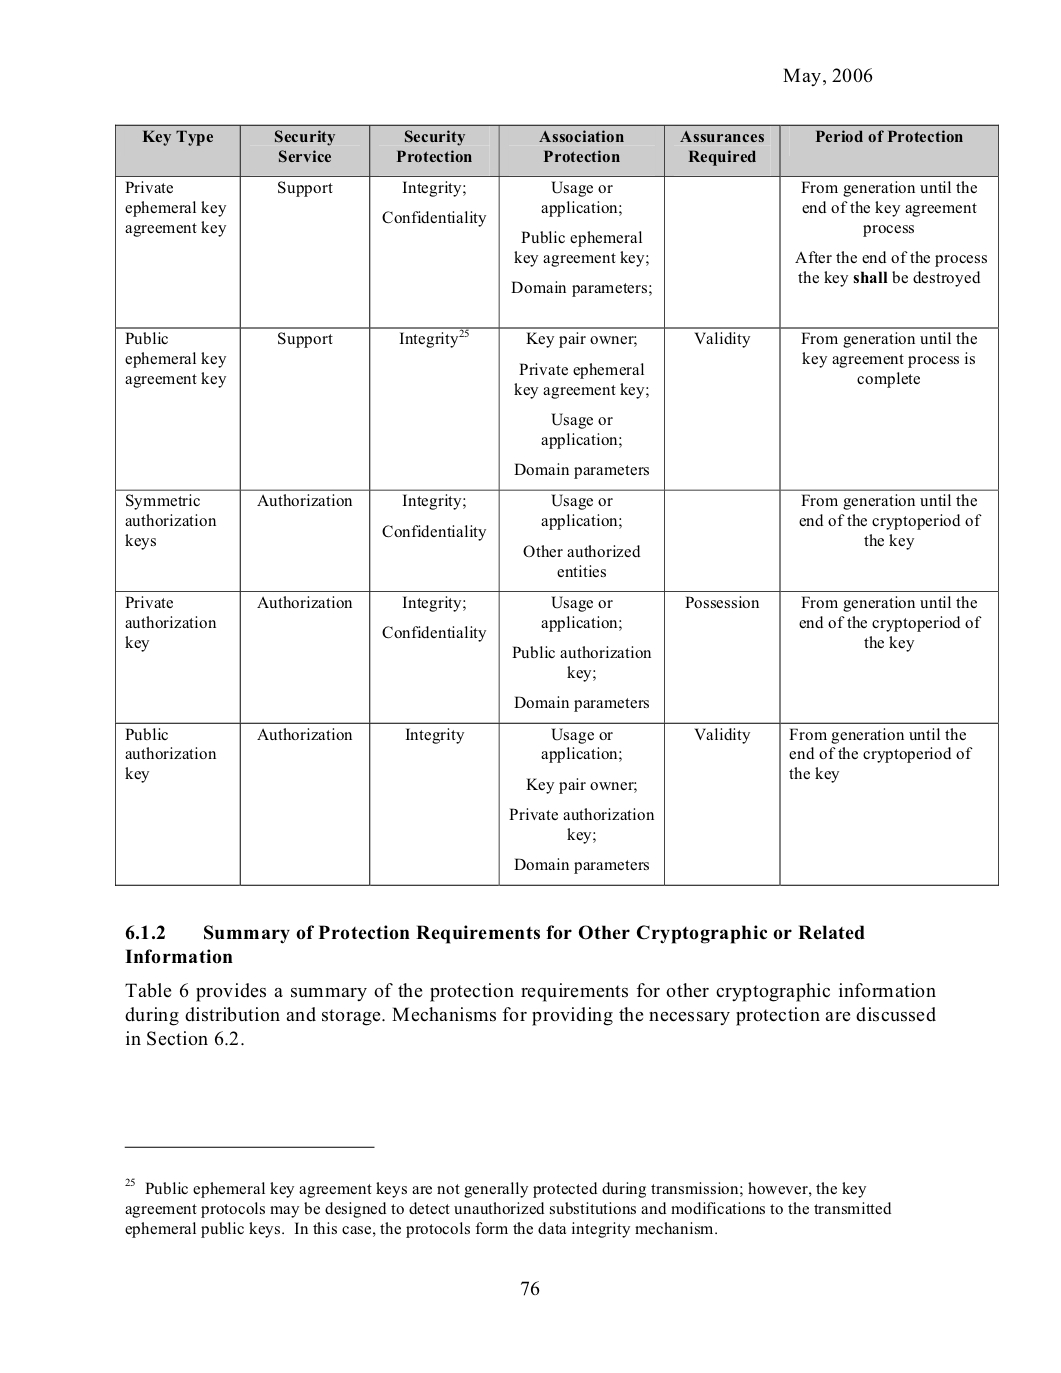Table: (115, 123, 997, 886)
